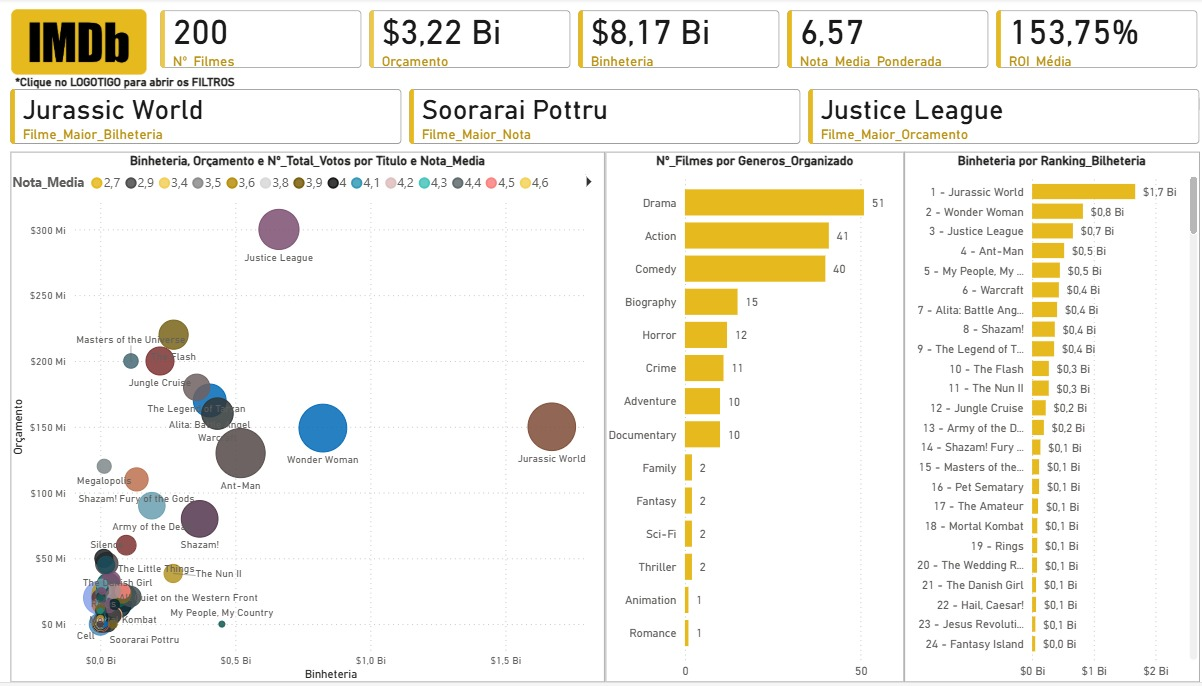

The dashboard page shown, as its layout file describes it:
{"tool":"powerbi","page":{"name":"IMDB | Visão_Geral","canvas":[1280,720],"ordinal":1},"visuals":[{"type":"cardVisual","fields":{"Data":["Medidas.Nº_Filmes","Medidas.Orçamento","Medidas.Binheteria","Medidas.Nota_Media_Ponderada","Medidas.ROI_Média"]},"box":[158,0,1122.1,87.1],"z":0},{"type":"cardVisual","fields":{"Data":["Medidas.Filme_Maior_Bilheteria","Medidas.Filme_Maior_Nota","Medidas.Filme_Maior_Orcamento"]},"box":[0,83.3,1280,84.6],"z":1000},{"type":"image","box":[13.7,11.2,144.3,68.4],"z":2000},{"type":"clusteredBarChart","fields":{"Category":["Dim_Filmes_IMDB_TMDB.Ranking_Bilheteria"],"Y":["Medidas.Binheteria"]},"box":[954.1,161.7,311,558.5],"z":3000},{"type":"clusteredBarChart","fields":{"Category":["Fato_Filmes_IMDB_TMDB.Generos_Organizado"],"Y":["Medidas.Nº_Filmes"]},"box":[639.4,161.7,314.7,558.5],"z":4000},{"type":"scatterChart","fields":{"Category":["Fato_Filmes_IMDB_TMDB.Titulo"],"Series":["Fato_Filmes_IMDB_TMDB.Nota_Media"],"Size":["Medidas.Nº_Total_Votos"],"X":["Medidas.Binheteria"],"Y":["Medidas.Orçamento"]},"box":[13.7,161.7,625.7,558.5],"z":5000},{"type":"textbox","box":[13.7,73.4,286.1,27.4],"z":5500},{"type":"actionButton","box":[1171.8,5,108.2,112],"z":7000},{"type":"actionButton","box":[13.7,11.2,144.3,68.4],"z":8000}]}

Visuals, with their boxes in screenshot pixels (x1, y1, x2, y2), scaled from the page's 1280x720 canvas onto the 1202x686 screenshot:
cardVisual - Medidas.Nº_Filmes x Medidas.Orçamento: select_region(148, 0, 1201, 83)
cardVisual - Medidas.Filme_Maior_Bilheteria x Medidas.Filme_Maior_Nota: select_region(0, 79, 1201, 160)
image: select_region(13, 11, 148, 76)
clusteredBarChart - Dim_Filmes_IMDB_TMDB.Ranking_Bilheteria x Medidas.Binheteria: select_region(896, 154, 1188, 685)
clusteredBarChart - Fato_Filmes_IMDB_TMDB.Generos_Organizado x Medidas.Nº_Filmes: select_region(600, 154, 896, 685)
scatterChart - Fato_Filmes_IMDB_TMDB.Titulo x Fato_Filmes_IMDB_TMDB.Nota_Media: select_region(13, 154, 600, 685)
textbox: select_region(13, 70, 282, 96)
actionButton: select_region(1100, 5, 1201, 111)
actionButton: select_region(13, 11, 148, 76)
